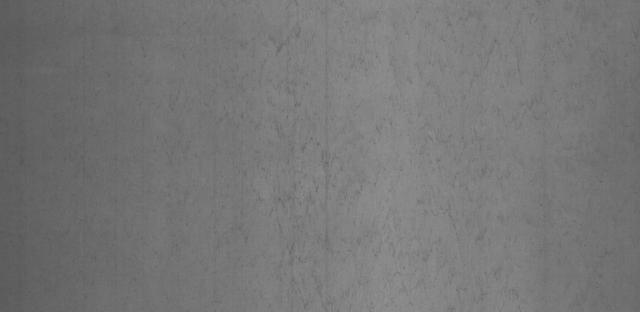silk_spot: (374, 13, 628, 307), (238, 8, 365, 294)
